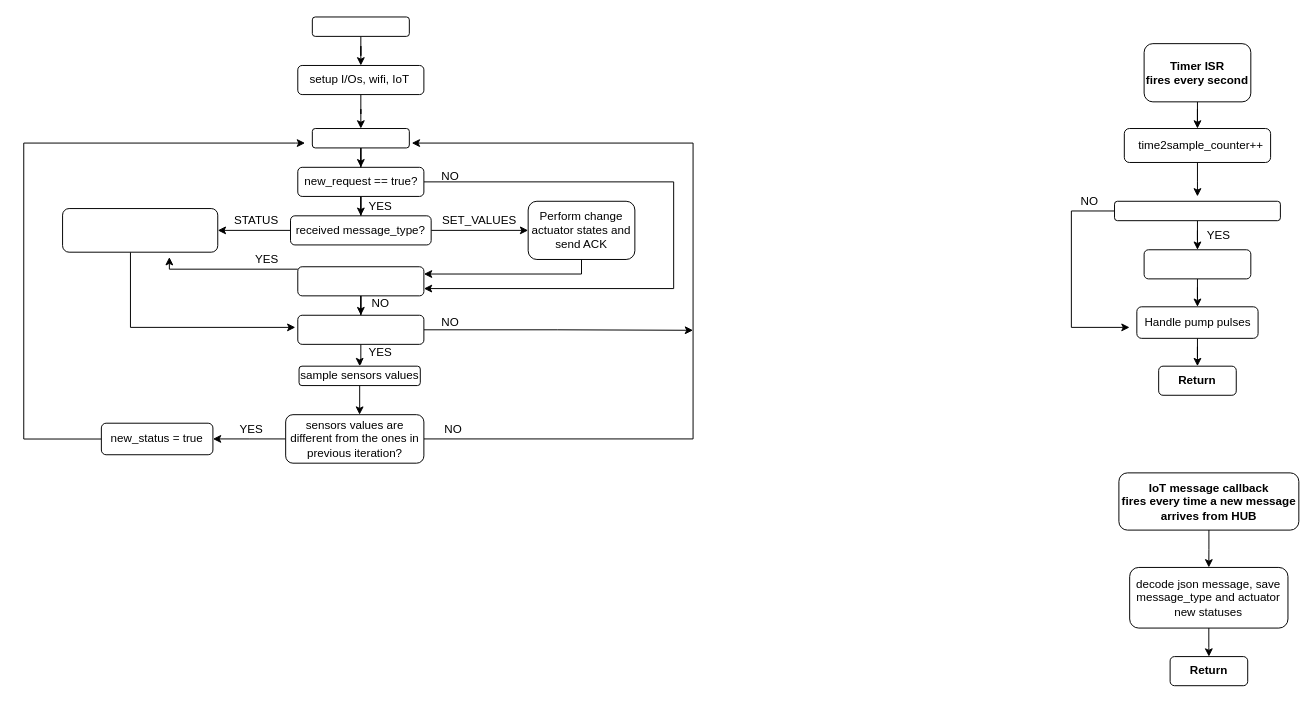
The diagram is 1316 pixels wide and 703 high, and some of its shapes have lost their labels. The centre of each missing label's shape, as x and y in pixels:
loop: (x=360, y=138)
Main: (x=360, y=26)
new_status == true?: (x=360, y=281)
Send message with sensors and actuators statuses: (x=140, y=230)
time2sample_counter >= 5 ?: (x=1197, y=210)
timetosample = true: (x=1197, y=264)
timetosample == true?: (x=360, y=329)
